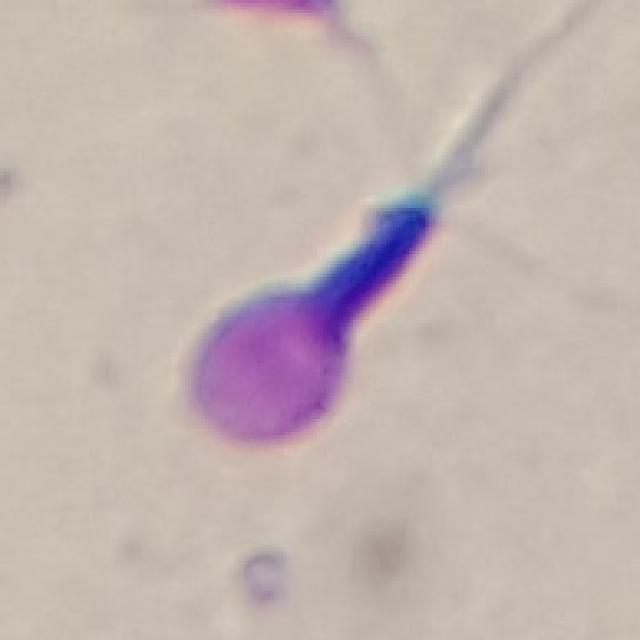abnormal sperm: (187, 117, 483, 448)
